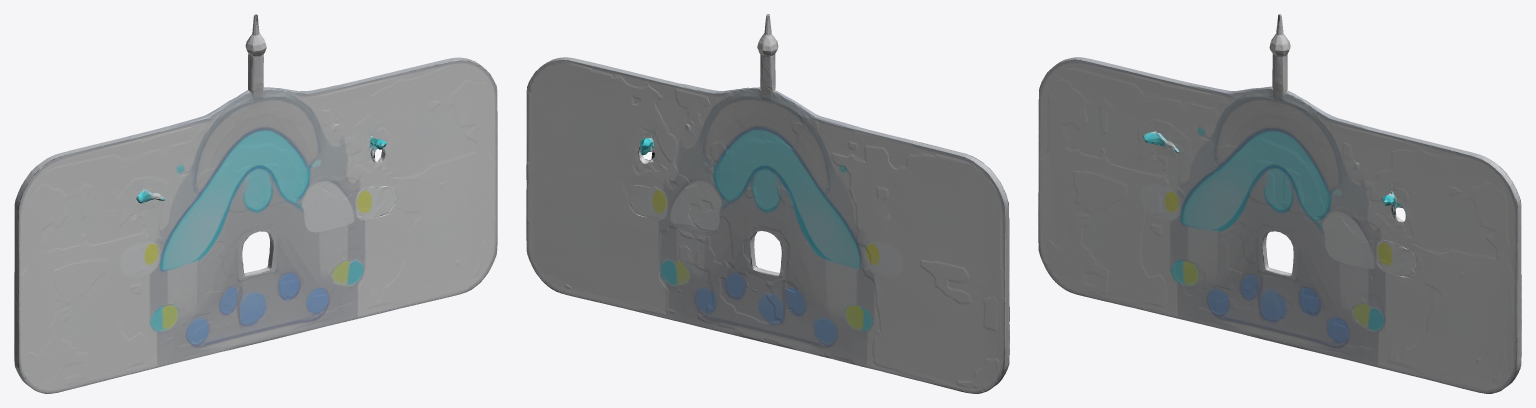
The model's file is COMMON_사물_ui_worldmap_next_country_tease.glb.
3 renders of one model, left to right at view 1: azimuth 30°, elevation 25°; view 2: azimuth 150°, elevation 25°; view 3: azimuth 330°, elevation 25°, orthographic.
Visible parts, largest first — view 1: world; view 2: world; view 3: world.
Boxes of the visible parts, x1=… form: world: x1=14, y1=14, x2=497, y2=393; world: x1=526, y1=14, x2=1009, y2=393; world: x1=1038, y1=14, x2=1521, y2=393.
Bounding box in the file's own units: 1 × 0.6557 × 0.0809.
1 material, 1 textured.
